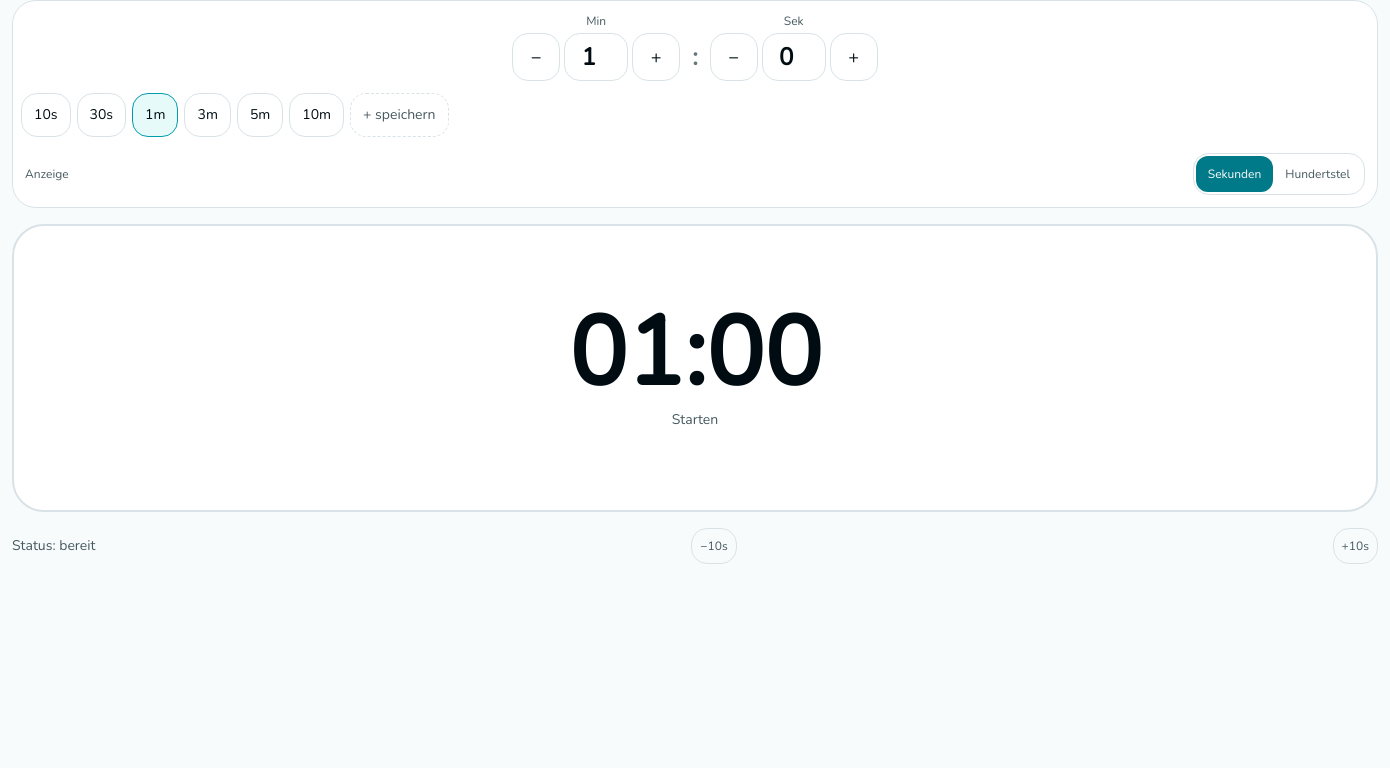
Test case: ClickerTimer › starts the timer when the big button is pressed
Click the button "0 1 : 0 0 Starten" at {"x": 695, "y": 495}, box top-left (12, 224), bottom-right (1378, 512)
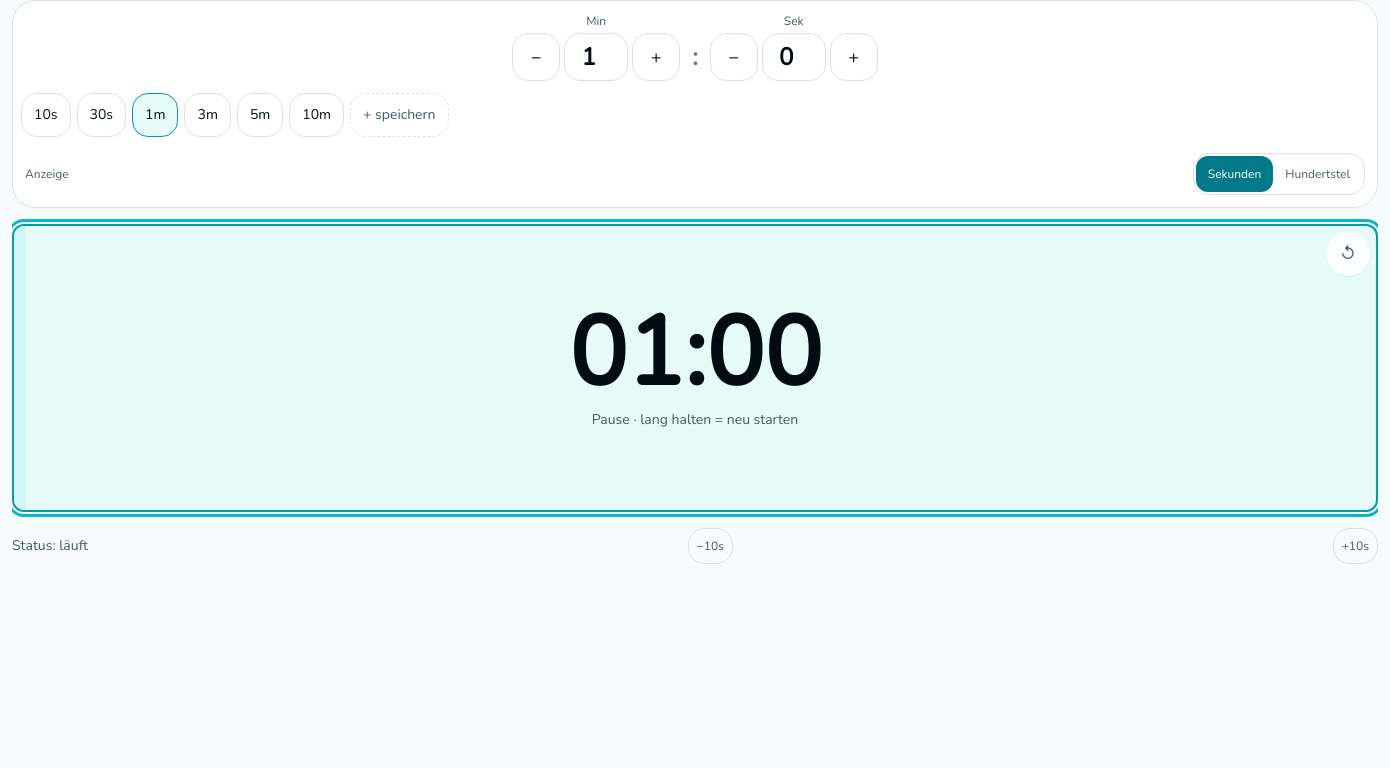
expect the text "Status: läuft" is shown: met, box top-left (12, 536), bottom-right (88, 556)
